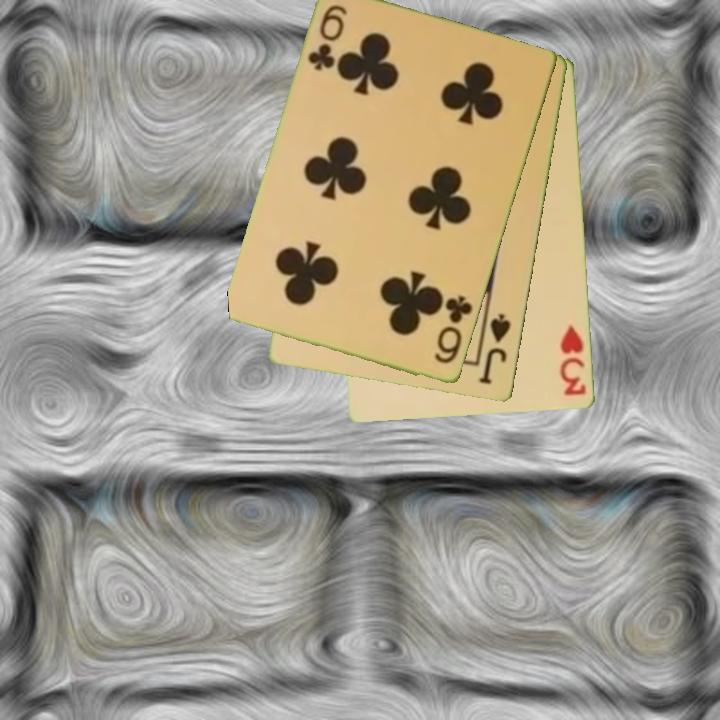3h: (557, 322, 589, 399)
6c: (304, 2, 351, 75), (431, 292, 476, 368)
Js: (475, 310, 514, 388)
